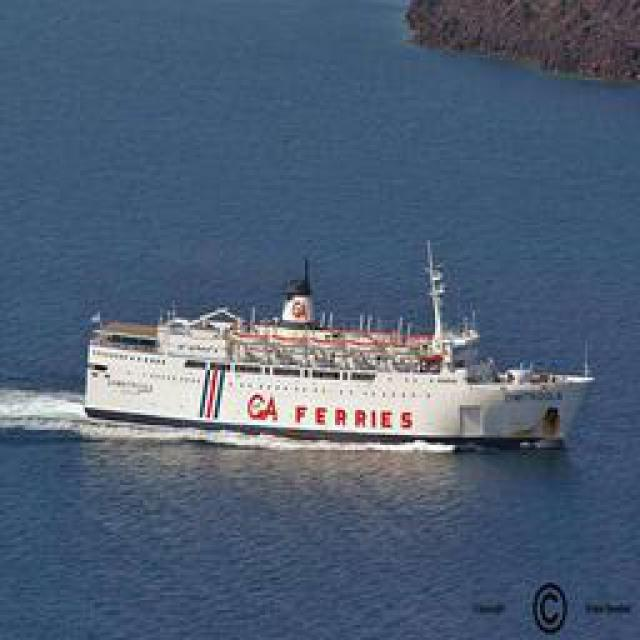Ship: (86, 239, 601, 454)
